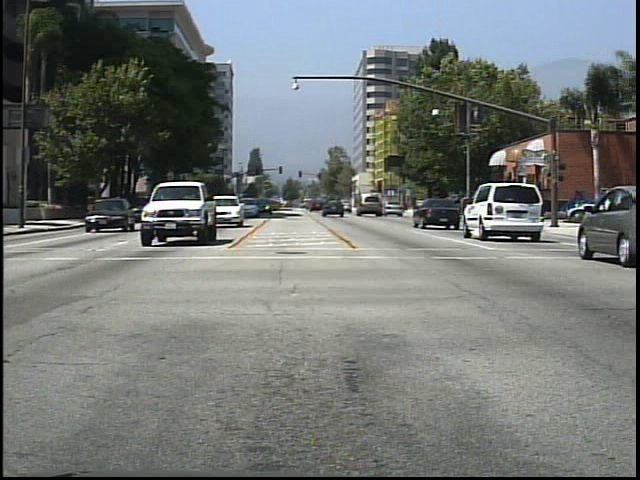person: (501, 191, 520, 229), (459, 191, 477, 227)
